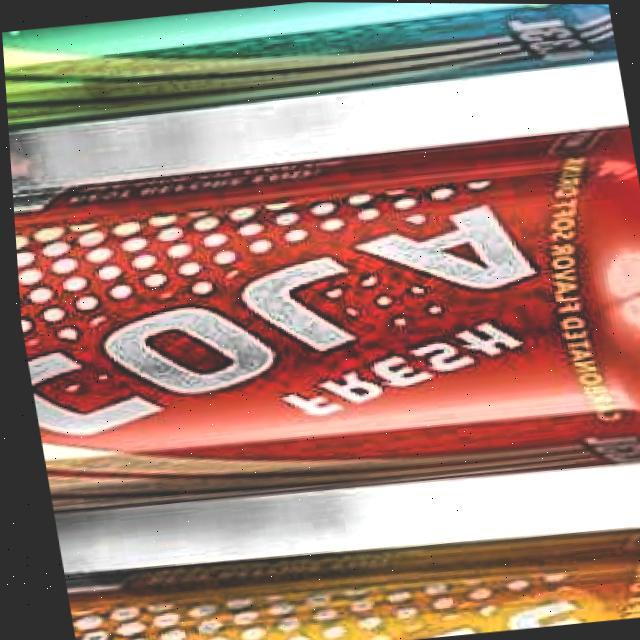metal: (6, 115, 640, 528)
